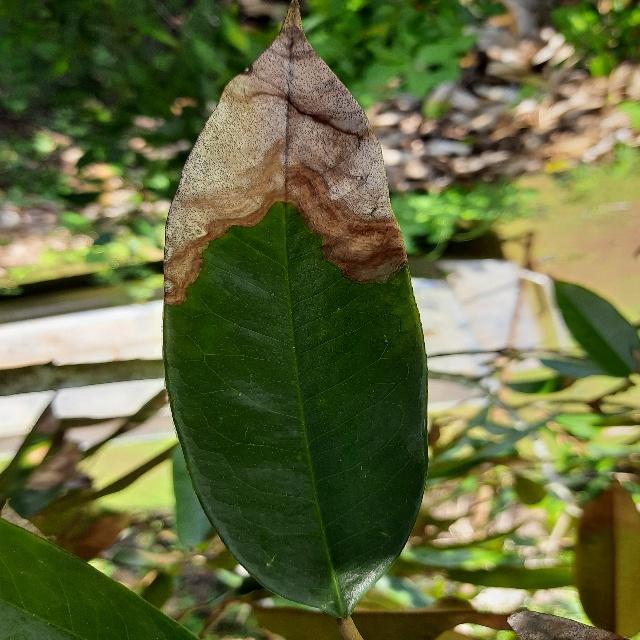Leaf Blight: (155, 0, 439, 631)
